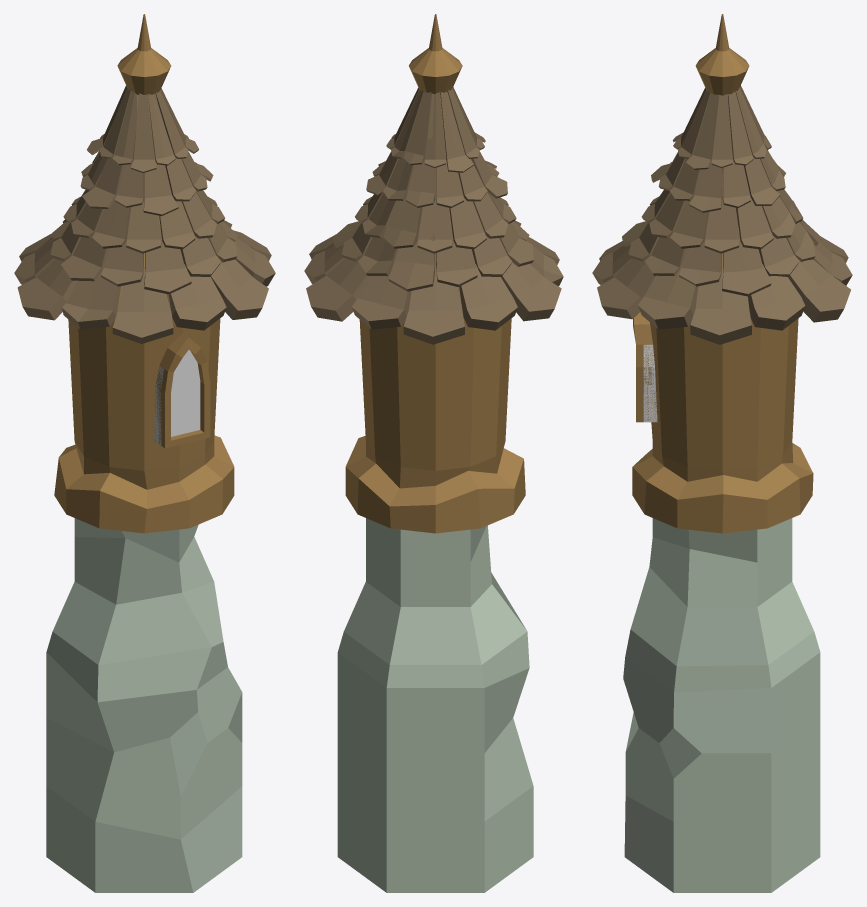
File: Tower.glb
The picture shows the model from 3 angles, left to right: view 1: azimuth 30°, elevation 25°; view 2: azimuth 150°, elevation 25°; view 3: azimuth 270°, elevation 25°; orthographic projection.
Visible parts, largest first — view 1: Circle.004, Circle.003, Circle, Plane, Circle.001; view 2: Circle.004, Circle.003, Circle, Circle.001; view 3: Circle.004, Circle.003, Circle, Circle.001, Plane.
Boxes of the visible parts, x1,y1,x2,y2 form: Circle.004: (46, 518, 242, 892); Circle.003: (14, 85, 275, 343); Circle: (54, 93, 234, 533); Plane: (154, 350, 200, 444); Circle.001: (117, 14, 171, 95); Circle.004: (337, 518, 533, 892); Circle.003: (304, 87, 563, 344); Circle: (345, 93, 525, 533); Circle.001: (409, 14, 462, 93); Circle.004: (623, 518, 820, 892); Circle.003: (592, 85, 852, 344); Circle: (632, 95, 813, 533); Circle.001: (695, 14, 749, 95); Plane: (643, 344, 657, 422).
Size of the model in its own units: 4 by 13.32 by 3.73.
